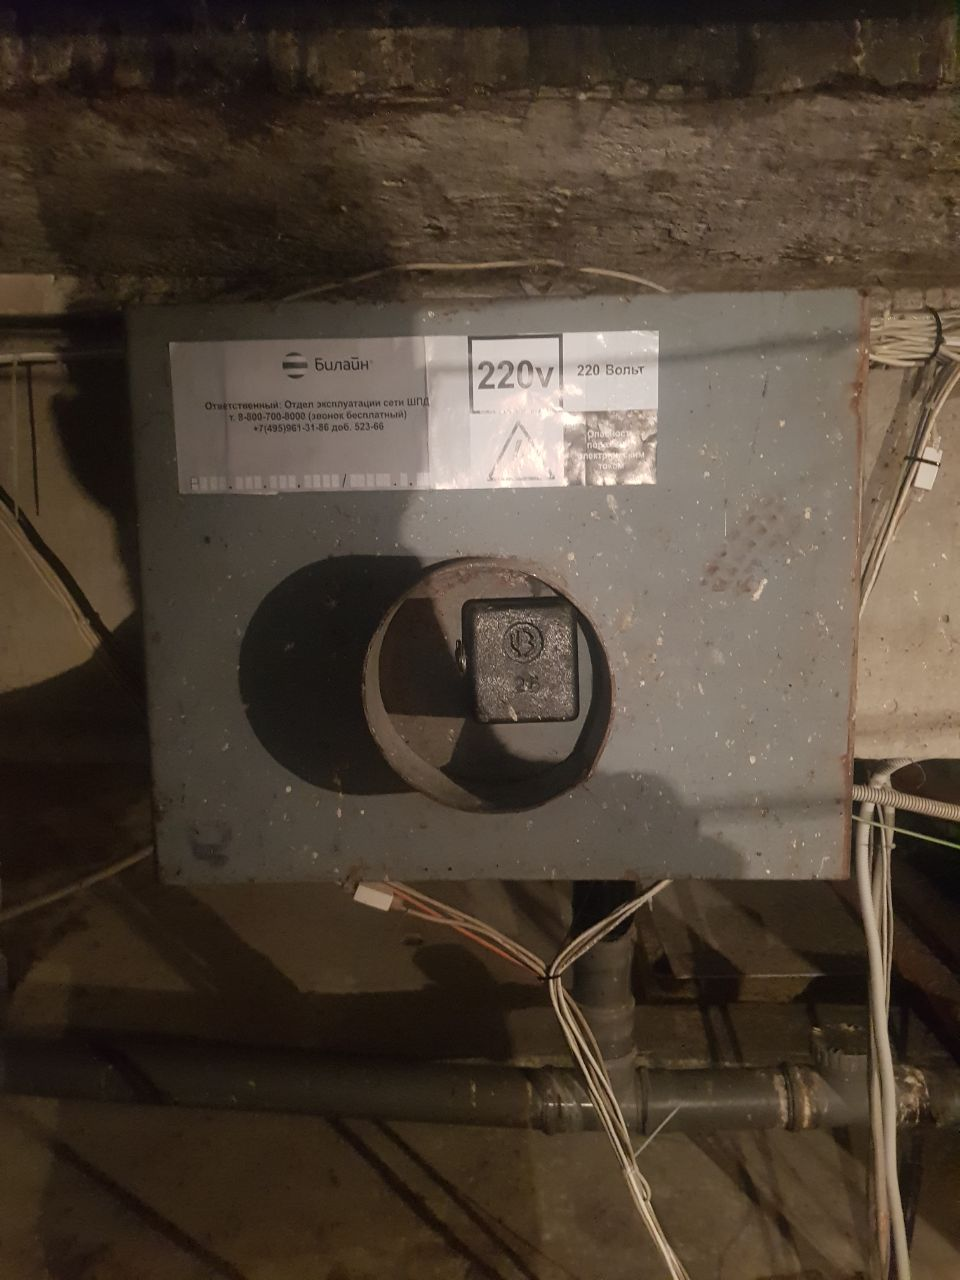shta-3: (124, 284, 868, 888)
